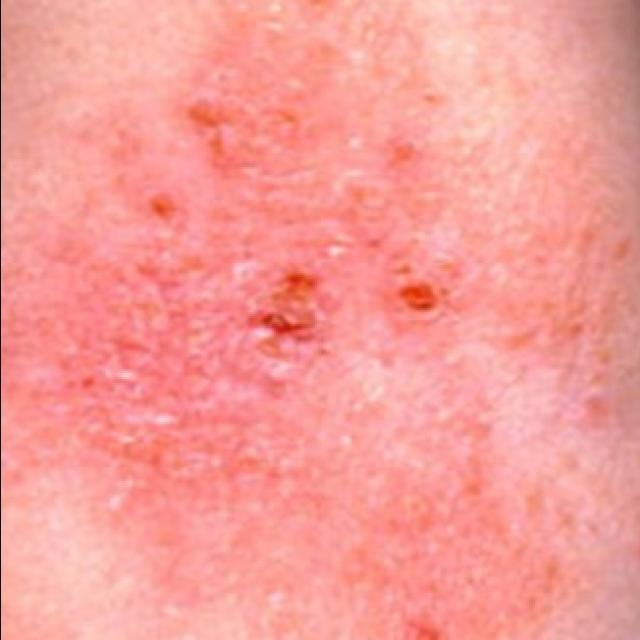AtopicDermatitis: (89, 0, 626, 640)
